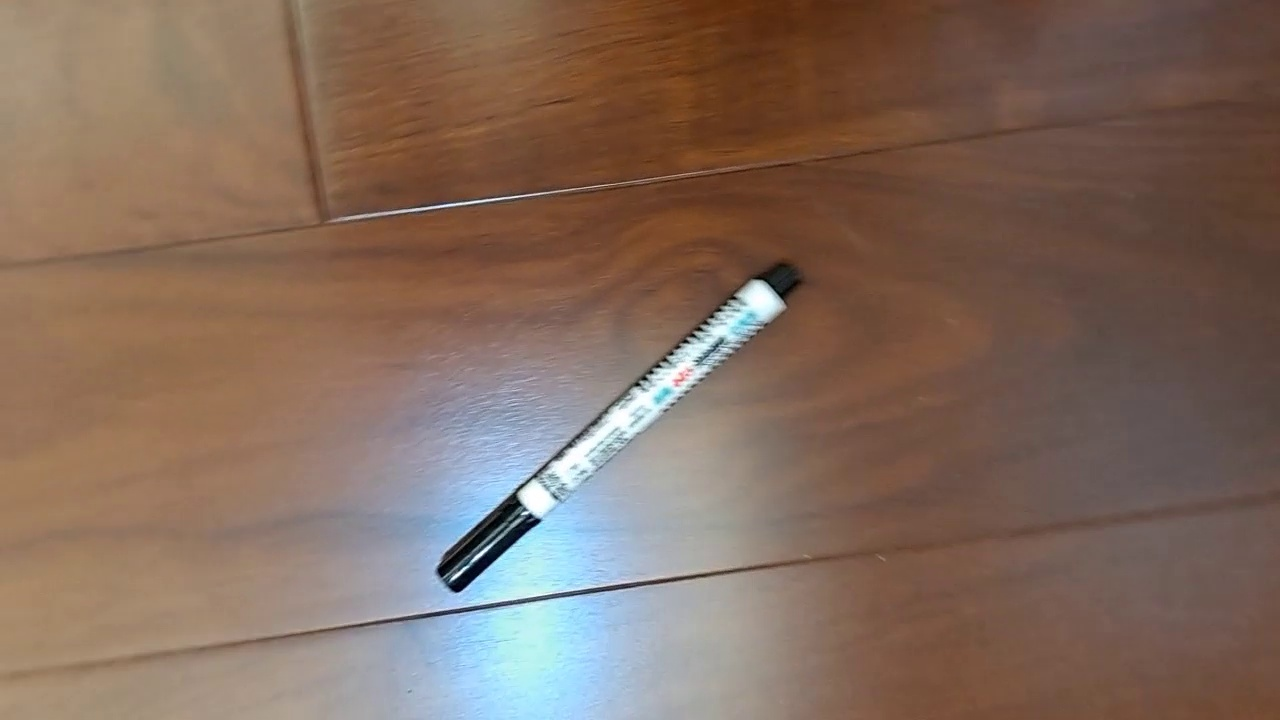pen: (435, 258, 804, 594)
